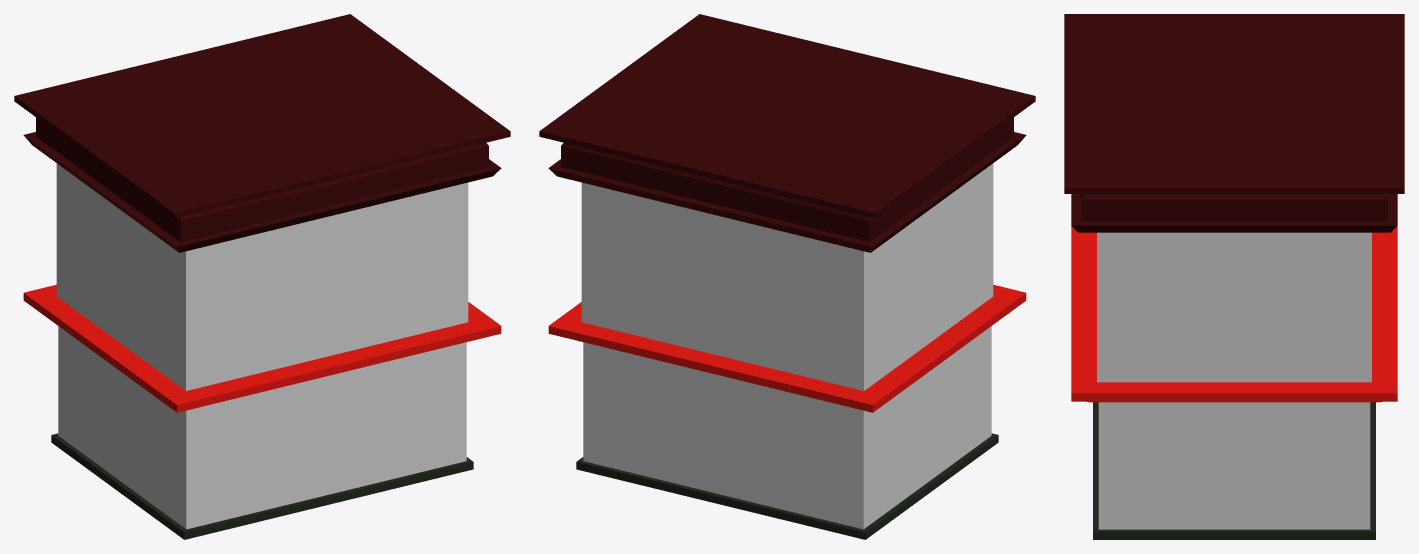
The model's file is Edificio2_x1.FBX.
3 renders of one model, left to right at view 1: azimuth 30°, elevation 25°; view 2: azimuth 150°, elevation 25°; view 3: azimuth 270°, elevation 25°, orthographic. The views are drawn at different scales.
Visible parts, largest first — view 1: Edificio2_x1; view 2: Edificio2_x1; view 3: Edificio2_x1.
Boxes of the visible parts, <box> form: Edificio2_x1: <box>14,14,510,539</box>; Edificio2_x1: <box>539,14,1035,539</box>; Edificio2_x1: <box>1064,14,1404,539</box>.
Bounding box in the file's own units: 528 × 514 × 436.
